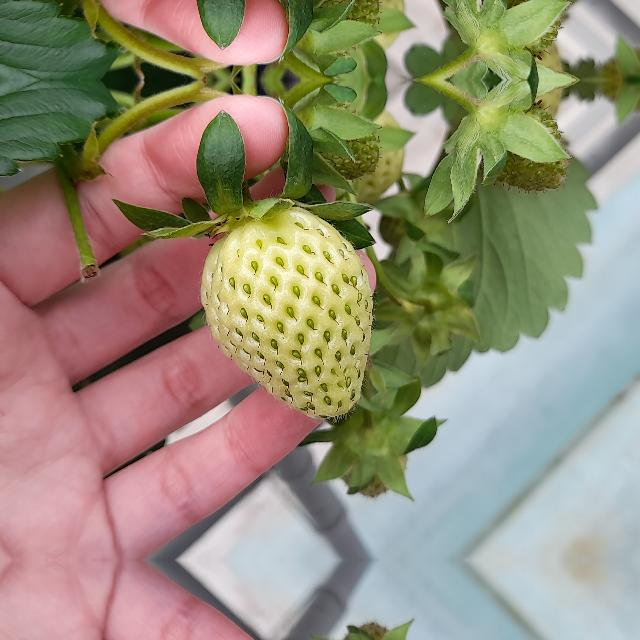Health_25: (200, 206, 372, 418), (455, 90, 569, 196), (455, 0, 569, 70), (302, 103, 382, 181), (302, 0, 382, 57)
